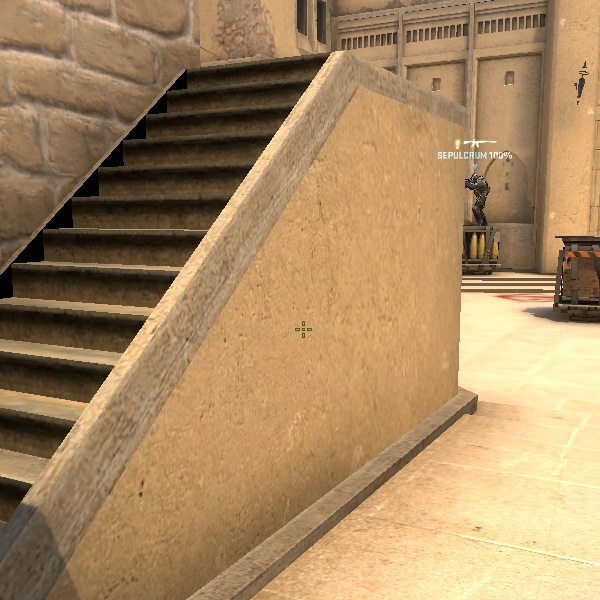ct_body: (462, 171, 493, 227)
ct_head: (468, 171, 483, 185)
